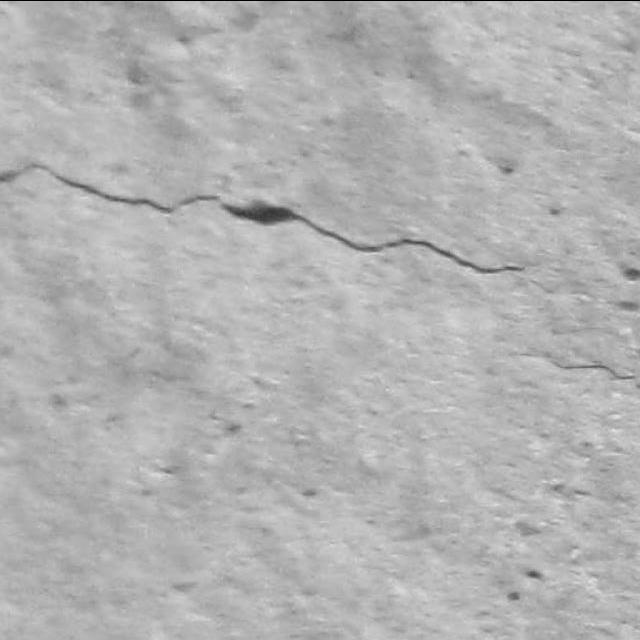SurfaceCrack: (0, 118, 638, 326)
